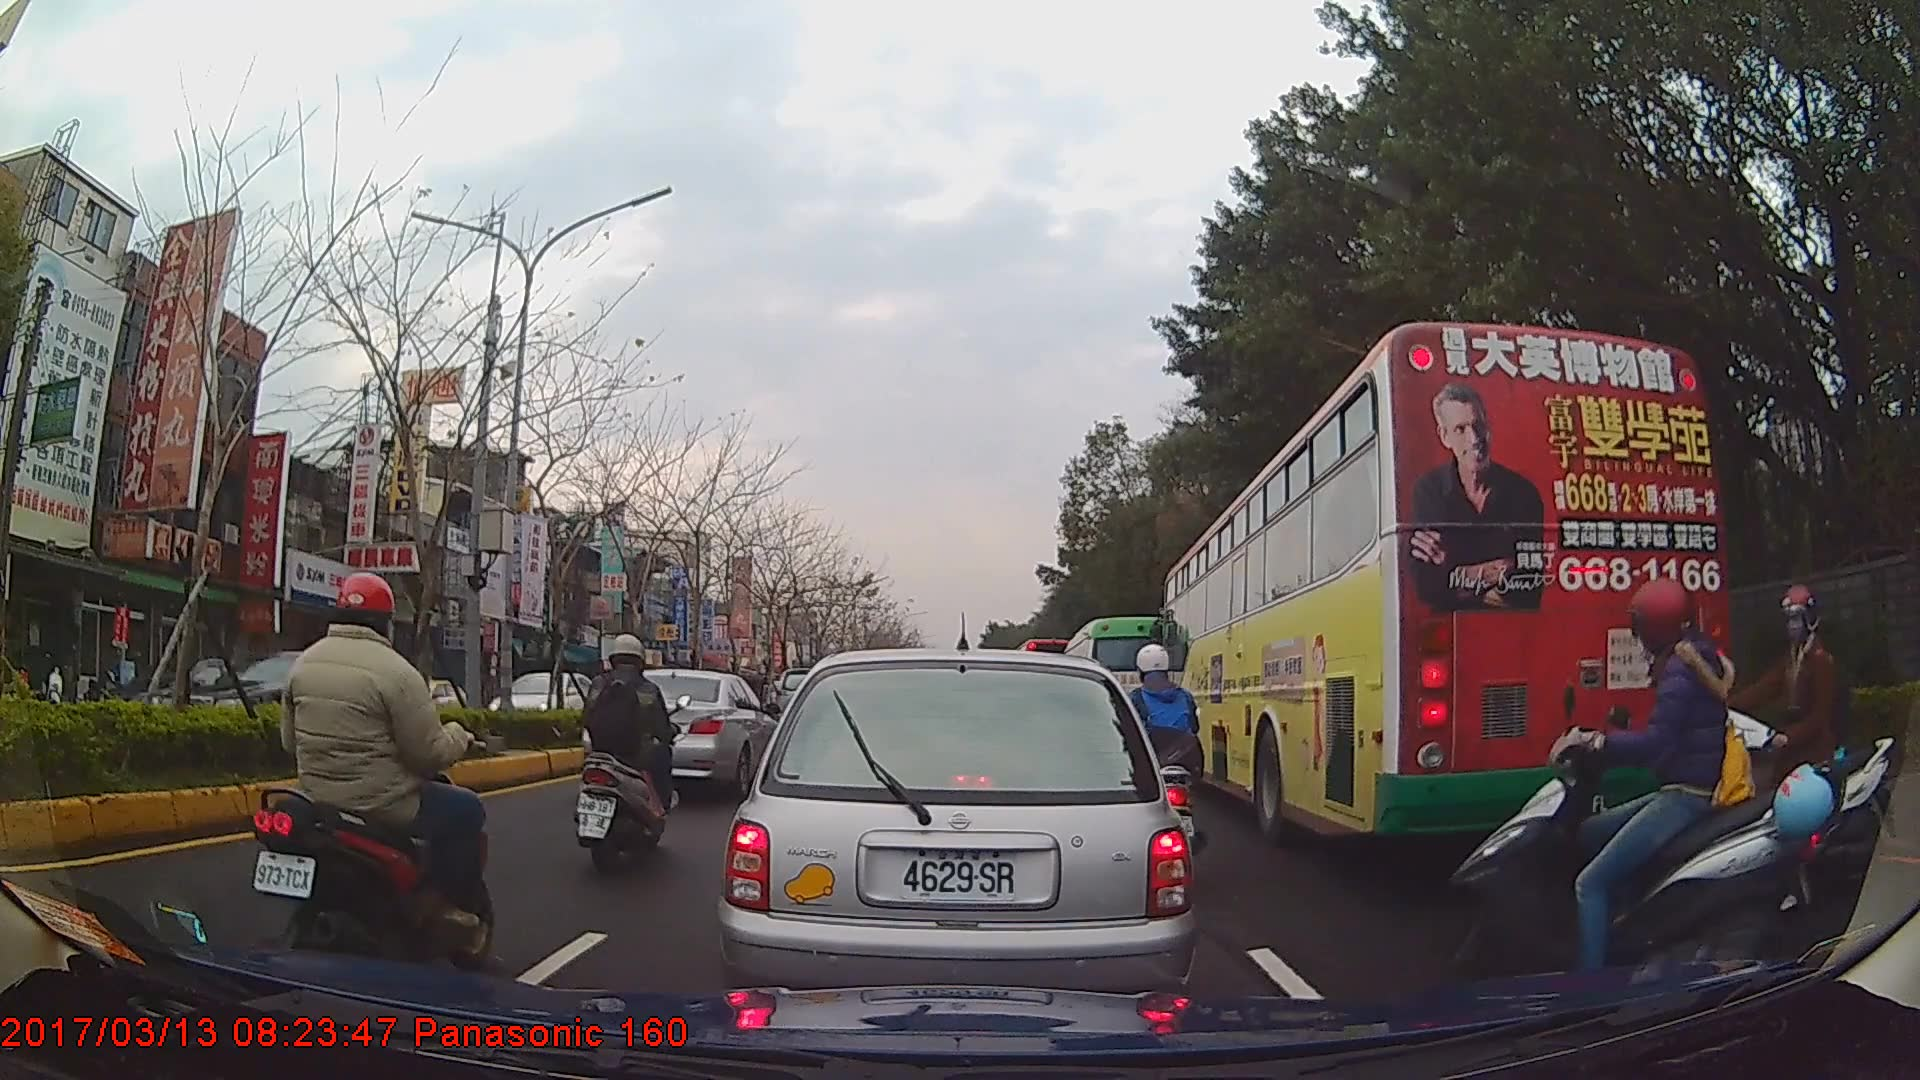rider: (1445, 583, 1838, 1007), (246, 572, 492, 982), (1685, 580, 1890, 919), (573, 632, 679, 873), (1123, 640, 1203, 853)
vehicle: (1160, 319, 1727, 848), (718, 647, 1191, 1025), (142, 645, 406, 752), (584, 667, 776, 797), (88, 652, 349, 736), (1058, 616, 1187, 765), (477, 664, 608, 734)
